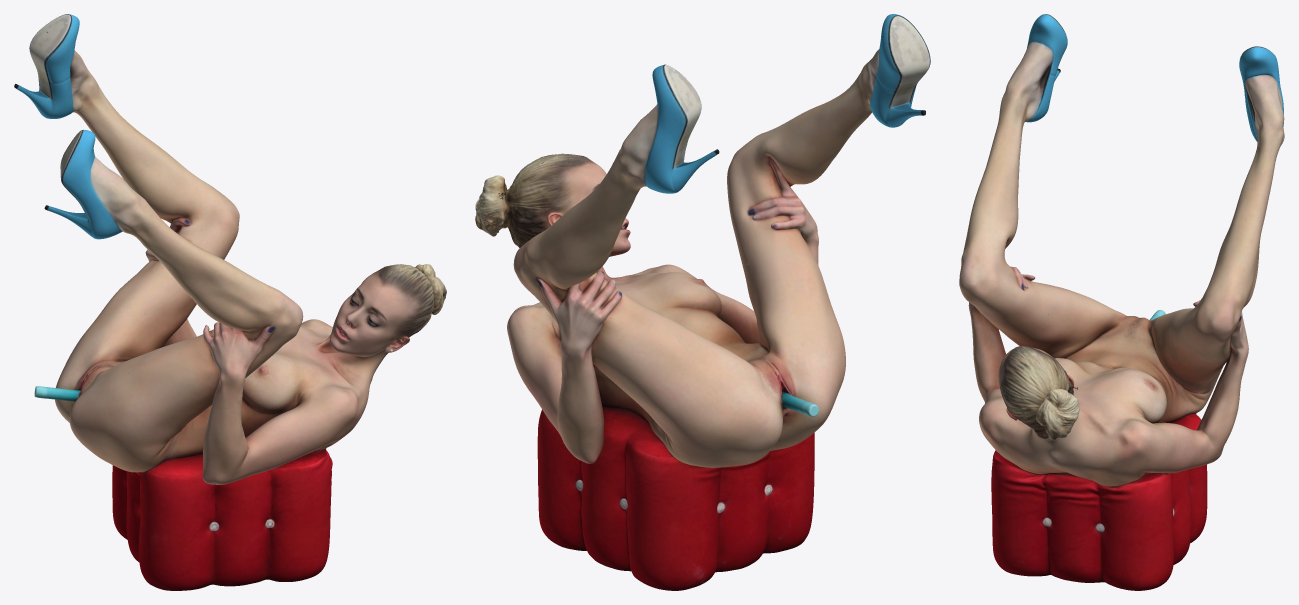
File: 6_opt.glb
3 views of the same model, side by side, from view 1: azimuth 30°, elevation 25°; view 2: azimuth 150°, elevation 25°; view 3: azimuth 270°, elevation 25° (orthographic). The views are drawn at different scales.
Parts seen in each view (by area): view 1: 53_LOD0_MeshPart0; view 2: 53_LOD0_MeshPart0; view 3: 53_LOD0_MeshPart0.
Part boxes in pixels (x1,y1,x2,y2): 53_LOD0_MeshPart0: [14, 14, 446, 590]; 53_LOD0_MeshPart0: [475, 14, 930, 590]; 53_LOD0_MeshPart0: [959, 14, 1284, 590].
Bounding box in the file's own units: 0.9641 × 1.14 × 0.717.
Materials: 2 (1 with a texture image).
